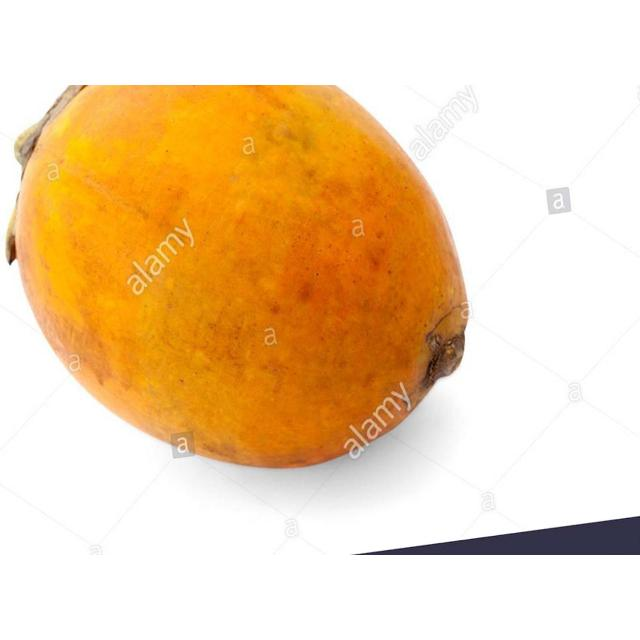good: (7, 85, 471, 471)
